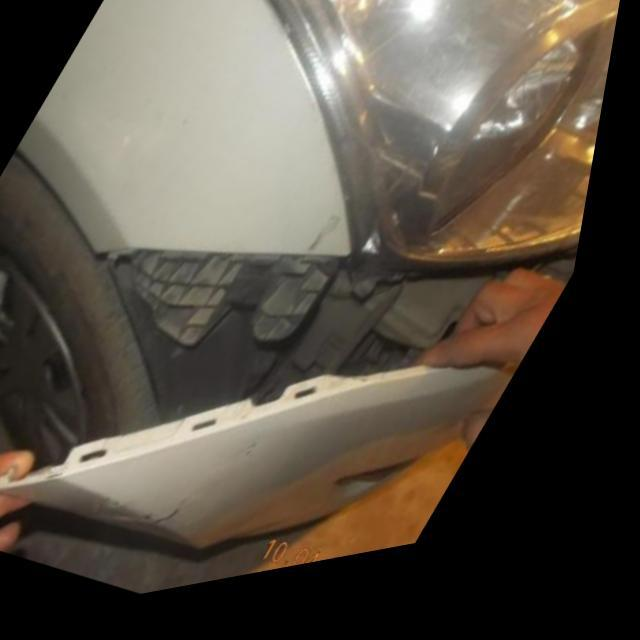dislocated part: (5, 249, 535, 476)
